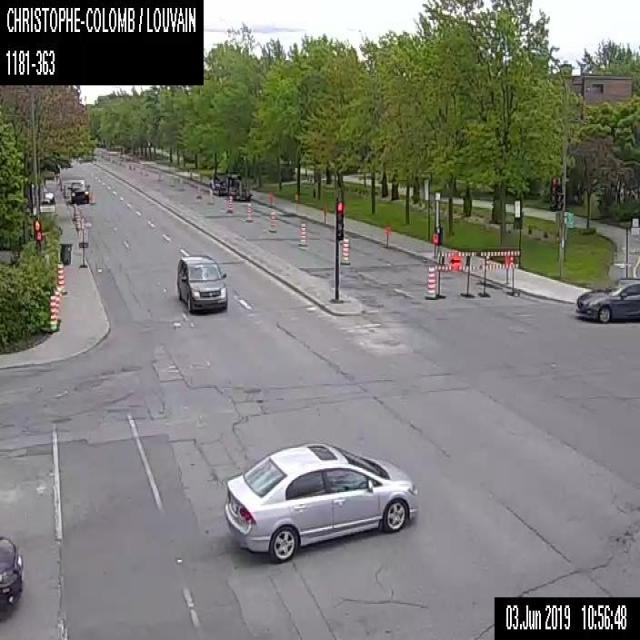construction: (435, 248, 477, 298), (478, 250, 519, 296), (78, 228, 88, 267), (47, 293, 57, 332), (424, 264, 435, 298), (56, 262, 67, 293), (51, 288, 61, 322), (50, 290, 59, 326), (339, 236, 349, 264), (297, 221, 307, 247), (382, 224, 392, 248), (268, 209, 276, 232), (244, 199, 252, 221), (321, 204, 327, 224), (226, 192, 232, 212), (75, 212, 81, 229), (268, 190, 273, 207), (208, 187, 213, 204), (196, 182, 201, 197)
vehicle: (222, 439, 416, 565), (575, 274, 639, 326), (174, 252, 227, 312), (0, 532, 22, 619), (208, 172, 252, 200), (68, 181, 90, 202)
